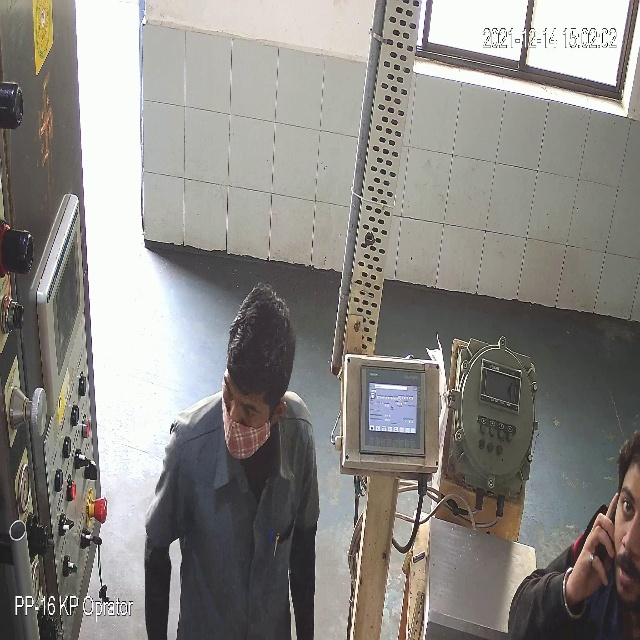Sin_gafas: (218, 377, 270, 423)
